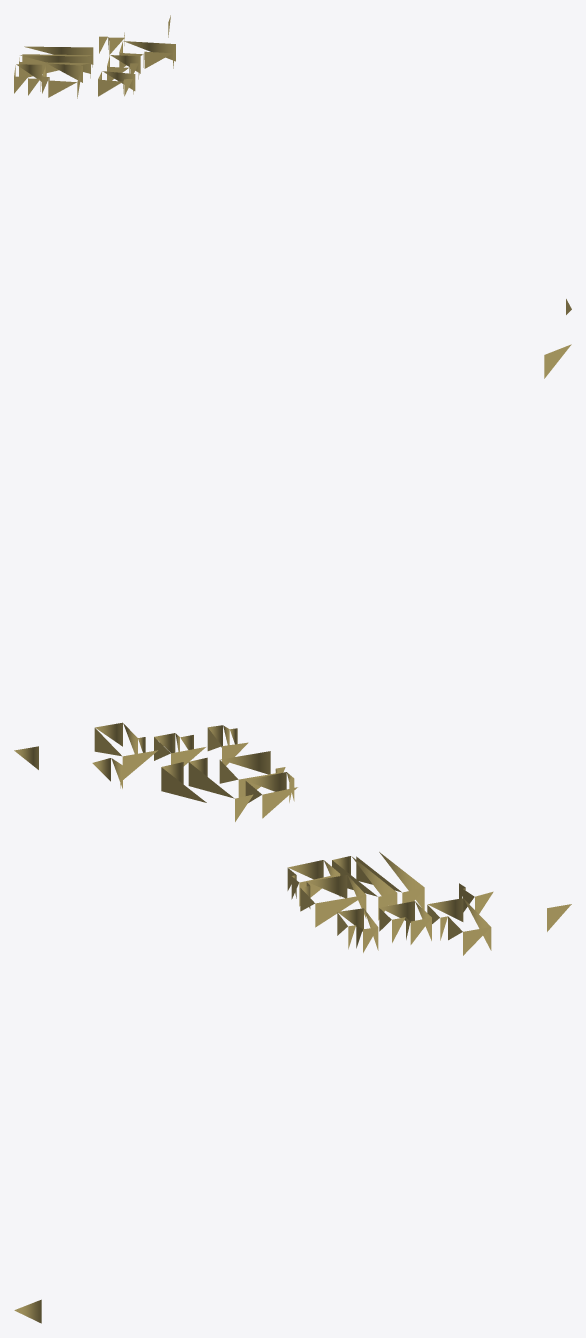
3 renders of one model, top to bottom at view 1: azimuth 30°, elevation 25°; view 2: azimuth 150°, elevation 25°; view 3: azimuth 330°, elevation 25°, orthographic. The views are drawn at different scales.
Bounding box in the file's own units: 83.83 × 7.5 × 316.
